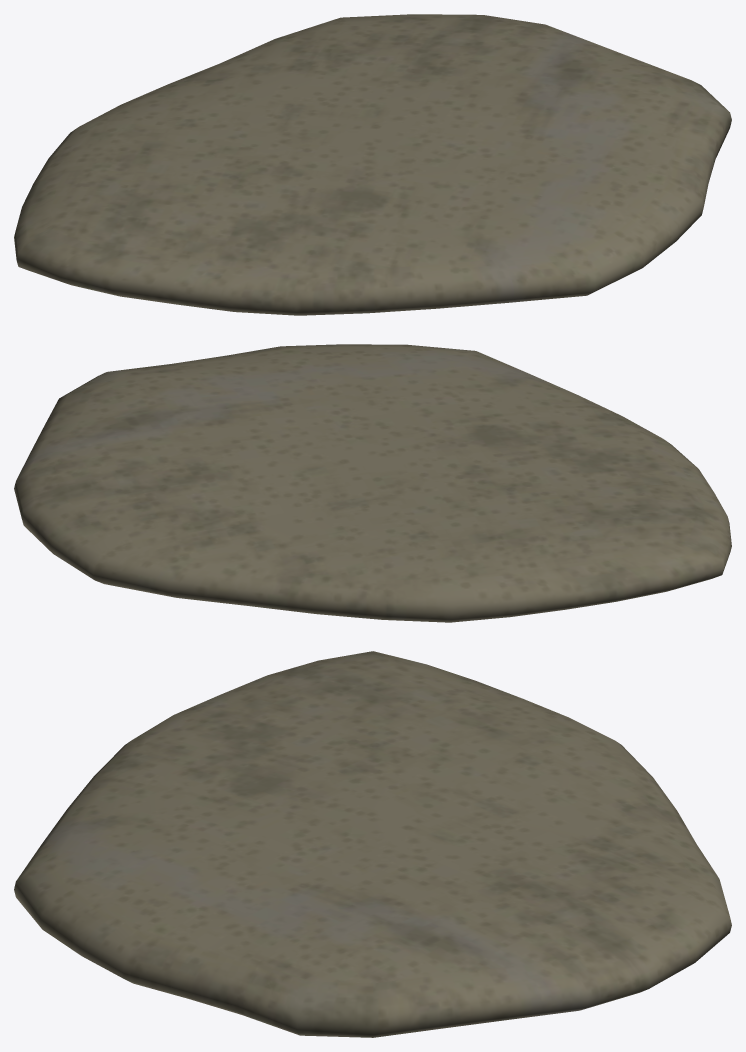
Rendered from small_wafer_03.glb.
3 views of the same model, one above another, from view 1: azimuth 30°, elevation 25°; view 2: azimuth 150°, elevation 25°; view 3: azimuth 270°, elevation 25° (orthographic). The views are drawn at different scales.
Visible parts, largest first — view 1: small_wafer_03; view 2: small_wafer_03; view 3: small_wafer_03.
Boxes of the visible parts, x1=… form: small_wafer_03: x1=14, y1=14, x2=731, y2=315; small_wafer_03: x1=14, y1=344, x2=731, y2=622; small_wafer_03: x1=14, y1=651, x2=731, y2=1037.
Size of the model in its own units: 0.056 by 0.00532 by 0.0462.
1 material, 1 textured.
